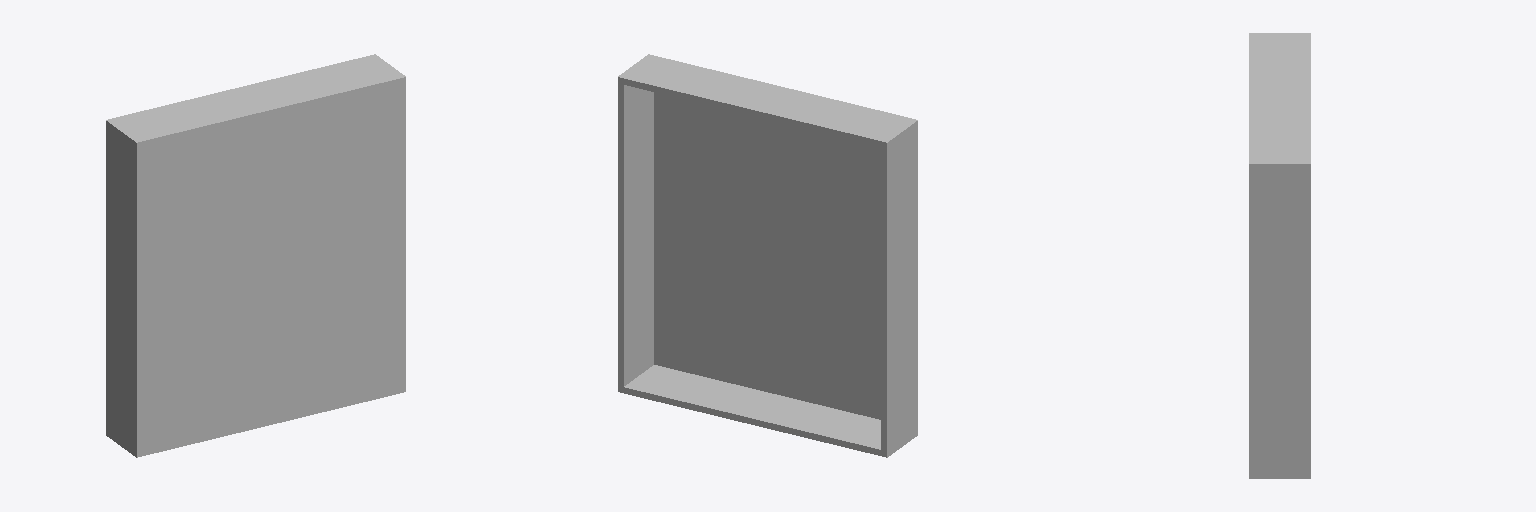
File: armoire.obj
The picture shows the model from 3 angles: view 1: azimuth 30°, elevation 25°; view 2: azimuth 150°, elevation 25°; view 3: azimuth 270°, elevation 25°; orthographic projection.
Parts seen in each view (by area): view 1: Cube.013_Cube.017; view 2: Cube.013_Cube.017; view 3: Cube.013_Cube.017.
Boxes of the visible parts, x1,y1,x2,y2 form: Cube.013_Cube.017: [106, 54, 405, 457]; Cube.013_Cube.017: [618, 54, 917, 457]; Cube.013_Cube.017: [1249, 33, 1310, 478].
Bounding box in the file's own units: 2.67 × 2.98 × 0.5319.